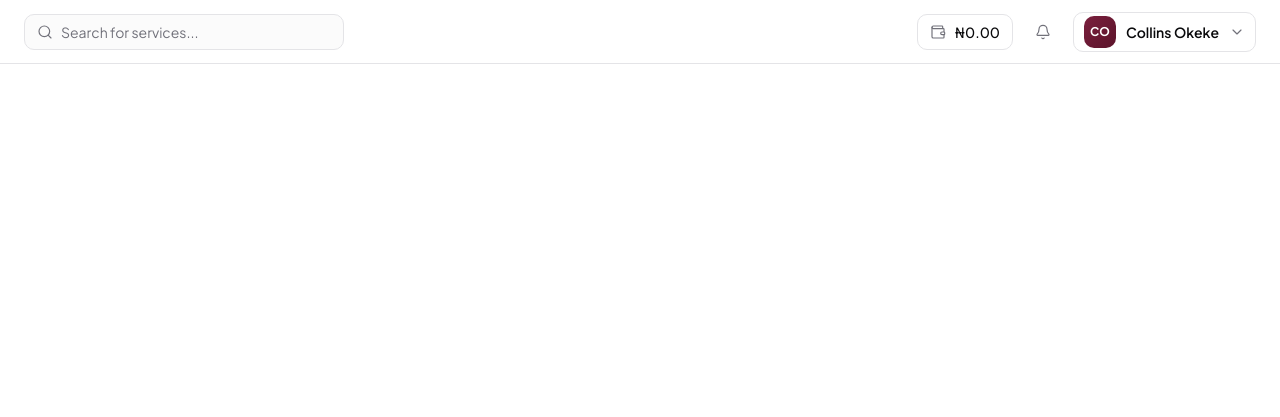
Topbar Component (F5.3) › displays user name and initials, opens menu with profile/settings links, and fires onLogout
Later steps or results of the test are not shown.
Check: the text "CO" is shown, box [1084,16,1116,48]
What coordinates should you click on to do the following:
click the button with aria-label "user menu"
I would click on:
 (1164, 32)
Its box is [1073,12,1256,52].
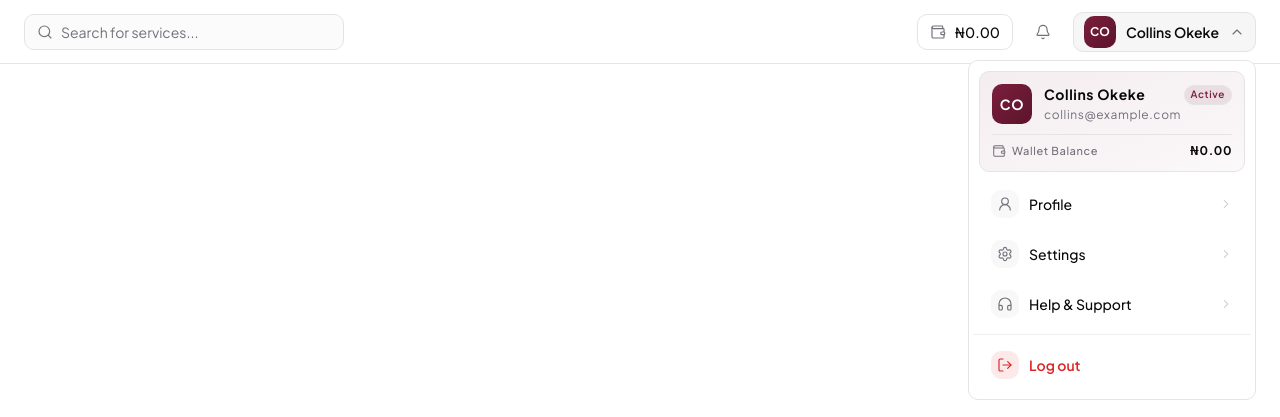
Check: the text "collins@example.com" is shown, box [1044,107,1181,122]
